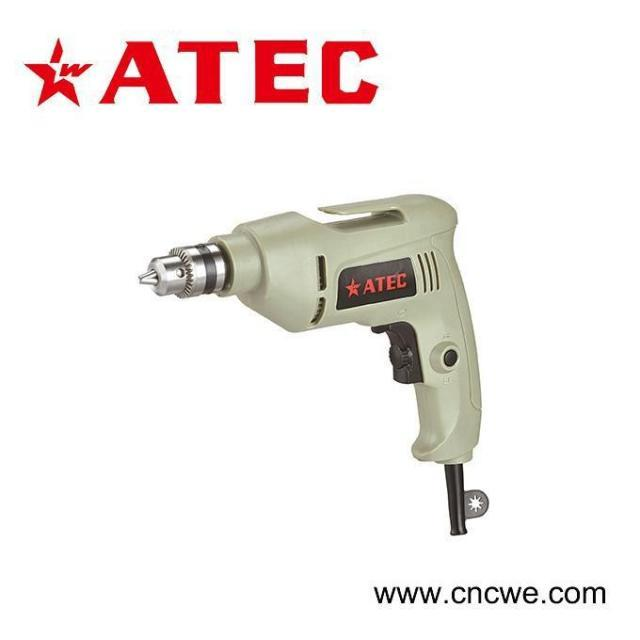drill: (138, 194, 490, 537)
